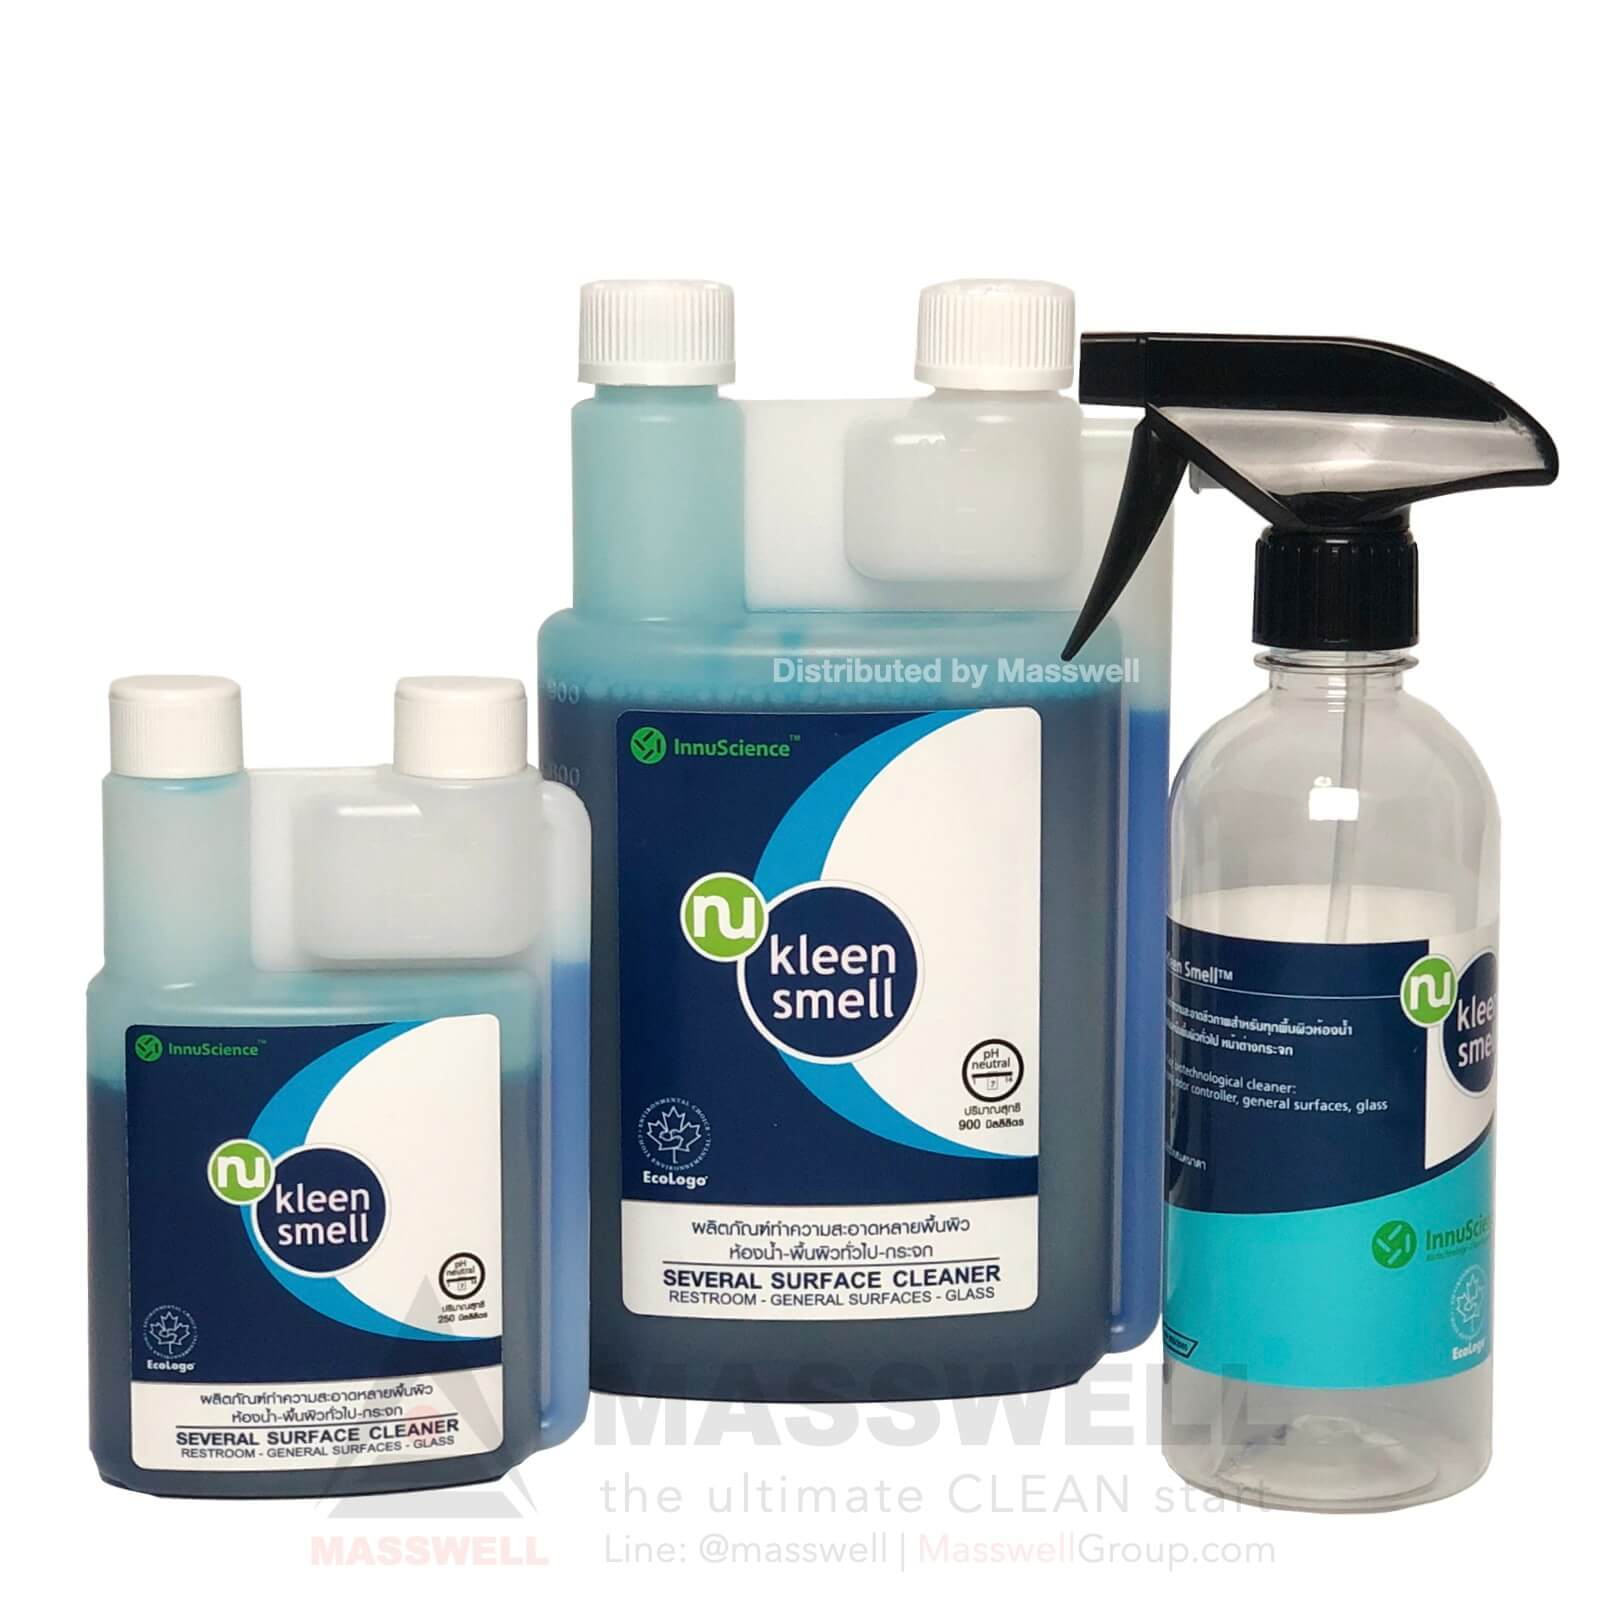Cleaning_solution: (506, 250, 1198, 1427), (1051, 307, 1569, 1530), (67, 650, 604, 1511)
